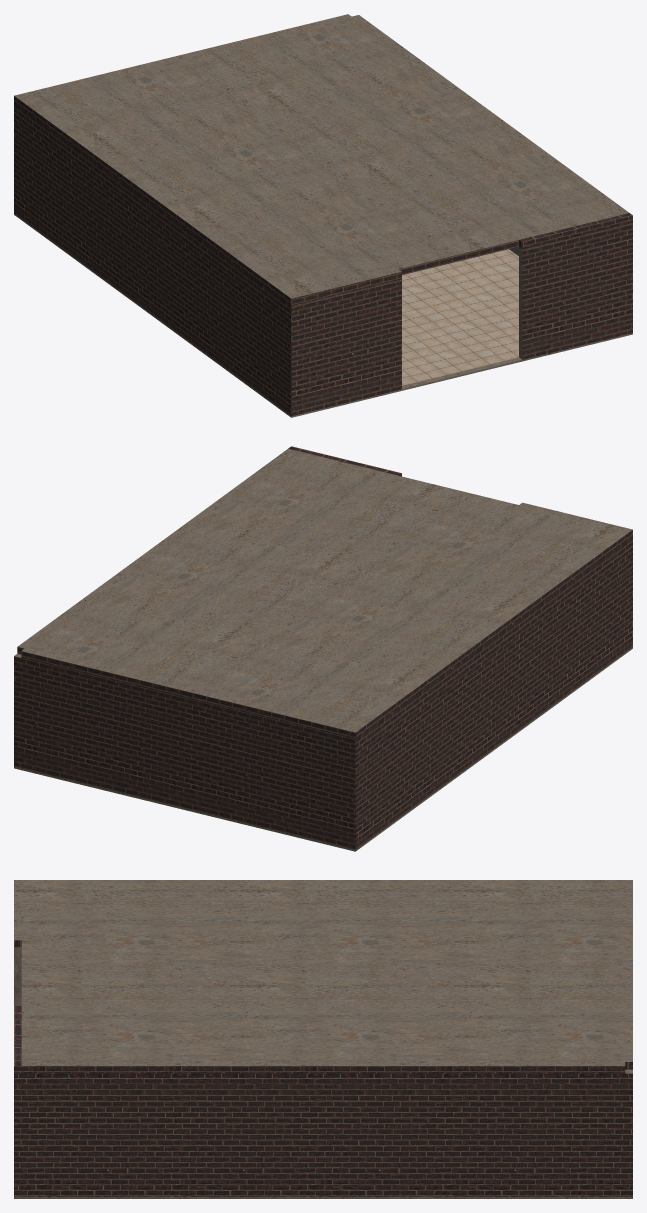
Rendered from Garage.fbx.
The picture shows the model from 3 angles, top to bottom: view 1: azimuth 30°, elevation 25°; view 2: azimuth 150°, elevation 25°; view 3: azimuth 270°, elevation 25°; orthographic projection. The views are drawn at different scales.
Parts seen in each view (by area): view 1: Cube; view 2: Cube; view 3: Cube.
Boxes of the visible parts, x1,y1,x2,y2 form: Cube: (14, 14, 632, 417); Cube: (14, 446, 632, 851); Cube: (14, 880, 632, 1198).
Size of the model in its own units: 555 by 185 by 781.
Materials: 3 (3 with a texture image).
